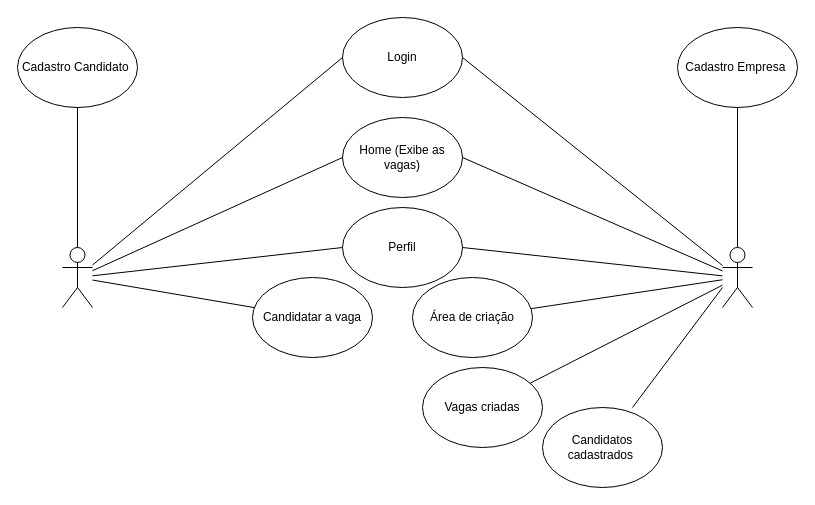
The diagram is 815 pixels wide and 505 high, and some of its shapes have lost their labels. Here are the shapes that lost their labels. From the top down, the centre of each, then its label:
At (x=77, y=277): "usuário".
At (x=737, y=277): "Empresa".
